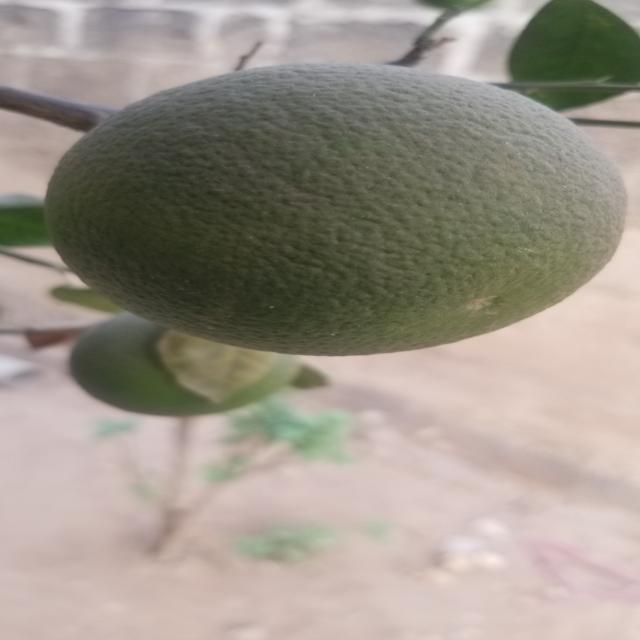Unripe: (56, 67, 617, 357)
